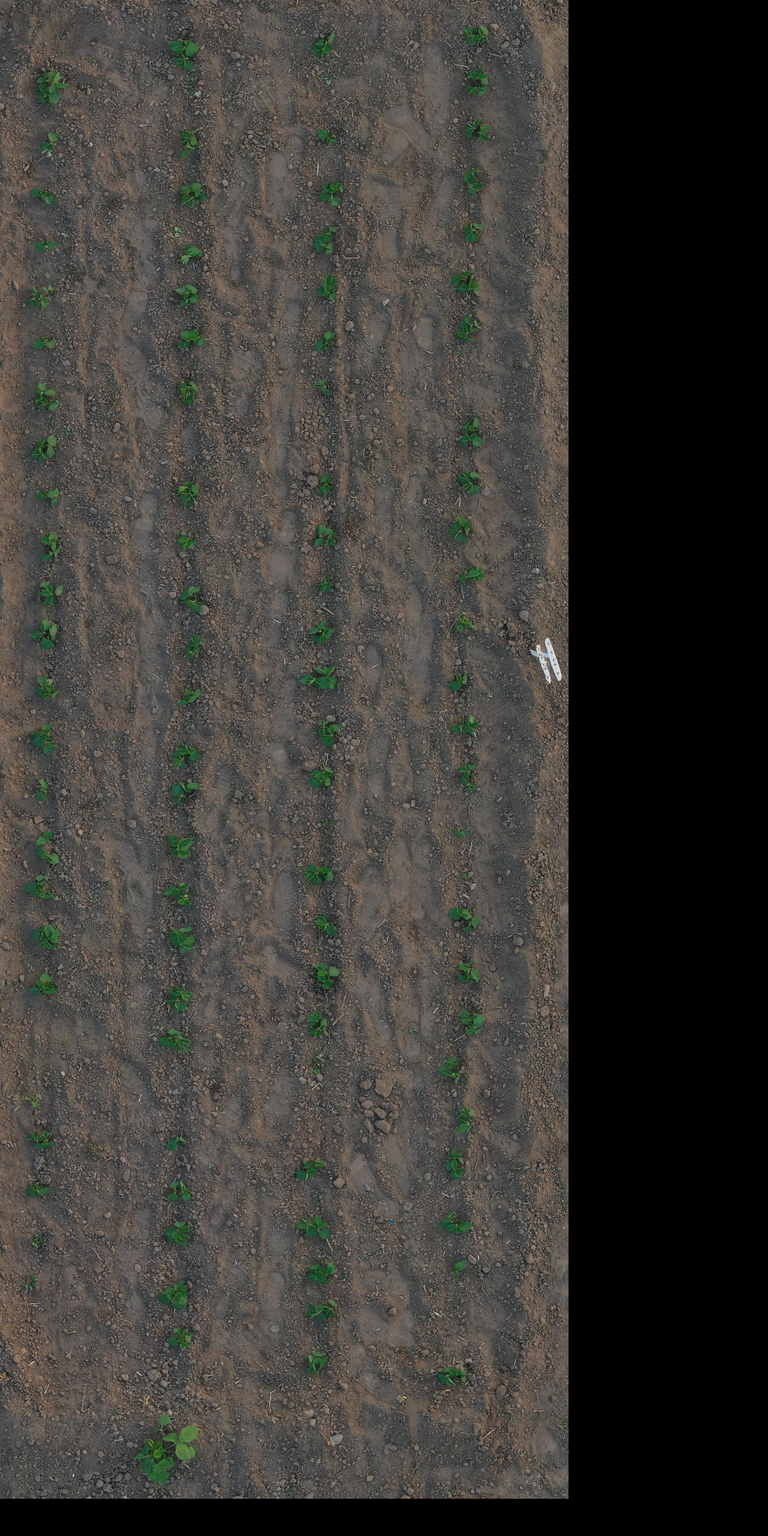s: (134, 1415, 198, 1463), (140, 1456, 174, 1486), (36, 70, 70, 94), (170, 41, 196, 71), (304, 1215, 331, 1240), (165, 986, 187, 1013), (28, 285, 53, 308), (180, 242, 204, 265), (40, 585, 64, 608), (157, 1291, 186, 1310), (36, 84, 61, 106), (175, 741, 202, 761), (168, 934, 195, 954), (315, 666, 338, 689), (316, 914, 338, 938), (28, 978, 57, 996), (160, 1280, 189, 1298), (40, 924, 60, 950), (319, 724, 340, 748), (458, 960, 480, 982), (178, 484, 199, 507), (314, 30, 334, 54), (32, 734, 56, 754), (300, 674, 330, 690), (448, 520, 468, 544), (162, 882, 190, 899), (35, 846, 60, 865), (165, 1221, 190, 1240), (40, 624, 58, 650), (445, 1159, 467, 1180), (165, 1035, 192, 1052), (158, 1028, 182, 1047), (463, 222, 484, 243), (315, 332, 336, 353), (317, 274, 337, 296), (31, 619, 51, 641), (466, 1013, 486, 1035), (466, 67, 490, 85), (456, 278, 480, 296), (459, 430, 484, 447), (306, 1302, 327, 1322), (25, 874, 47, 893), (168, 40, 200, 53), (318, 1262, 336, 1285), (30, 188, 54, 205), (180, 135, 197, 159), (26, 1182, 51, 1198), (26, 1130, 46, 1150), (465, 118, 484, 139), (35, 675, 54, 696), (31, 723, 52, 742), (308, 1017, 327, 1038), (461, 166, 483, 184), (458, 476, 480, 494), (312, 627, 335, 644), (446, 1220, 472, 1235), (174, 284, 198, 300), (464, 315, 484, 334), (166, 1132, 186, 1151), (456, 1115, 475, 1135), (317, 226, 338, 244), (304, 863, 322, 884), (439, 1211, 460, 1229), (168, 842, 190, 859), (180, 182, 203, 198), (456, 319, 472, 342), (457, 568, 480, 584), (167, 834, 193, 848), (182, 594, 201, 613), (40, 132, 58, 152), (41, 532, 59, 552), (189, 326, 206, 347), (178, 378, 199, 395), (312, 766, 335, 781), (438, 1069, 461, 1084), (181, 128, 199, 147), (472, 123, 490, 142), (456, 516, 473, 536), (32, 336, 56, 350), (41, 546, 62, 562), (169, 925, 193, 939), (35, 398, 60, 411), (35, 777, 48, 802), (448, 907, 473, 920), (314, 964, 341, 976), (316, 971, 334, 989), (460, 1008, 478, 1026), (318, 129, 337, 146), (451, 270, 470, 287), (449, 674, 468, 691), (177, 294, 200, 308), (322, 1298, 338, 1318), (312, 1352, 328, 1372), (179, 193, 200, 208), (456, 968, 477, 983), (44, 435, 57, 459), (302, 1158, 326, 1171), (32, 436, 46, 458), (177, 780, 199, 794), (168, 1334, 190, 1348), (174, 987, 192, 1004), (178, 330, 194, 349), (177, 534, 196, 550), (37, 381, 57, 396), (29, 888, 54, 900), (438, 1056, 458, 1071), (314, 524, 327, 547), (171, 784, 184, 807), (312, 240, 333, 254), (179, 586, 200, 600), (177, 1180, 191, 1201), (185, 686, 202, 703), (311, 44, 329, 60), (466, 182, 484, 198), (314, 378, 330, 396), (462, 416, 480, 432), (450, 721, 474, 733), (35, 830, 53, 846), (462, 916, 480, 932), (295, 1168, 317, 1181), (315, 866, 334, 881), (437, 1371, 456, 1386), (307, 1355, 322, 1374), (456, 1107, 476, 1121), (35, 240, 58, 252), (165, 1234, 188, 1246), (443, 1366, 466, 1378), (34, 490, 59, 501), (461, 775, 478, 791), (474, 26, 489, 44), (179, 390, 197, 405), (40, 973, 55, 991), (458, 764, 476, 779), (453, 1260, 468, 1278), (446, 1149, 464, 1164), (307, 1264, 322, 1282), (307, 1010, 322, 1028), (319, 474, 331, 496), (459, 470, 481, 482), (38, 688, 60, 700), (464, 26, 477, 46), (167, 1181, 180, 1201), (172, 752, 188, 768), (296, 1216, 312, 1232), (31, 924, 46, 941), (187, 636, 205, 650), (308, 620, 326, 634), (41, 1130, 55, 1148), (24, 1094, 42, 1108), (466, 85, 488, 96), (320, 194, 340, 206), (471, 566, 486, 582), (316, 719, 330, 736), (38, 580, 51, 598), (310, 777, 331, 788), (324, 527, 336, 546), (319, 576, 332, 593), (172, 1327, 194, 1337), (326, 182, 344, 194), (33, 450, 51, 462), (456, 614, 468, 631), (50, 487, 60, 507), (466, 715, 479, 730), (326, 284, 337, 301), (177, 894, 191, 907), (318, 181, 328, 199), (186, 646, 201, 658), (176, 481, 192, 492), (41, 145, 54, 158), (464, 617, 477, 629), (192, 192, 207, 201), (35, 388, 44, 403), (176, 697, 191, 706), (29, 1275, 38, 1286), (194, 140, 202, 152), (456, 830, 468, 838), (24, 1282, 35, 1289), (34, 1234, 43, 1242), (31, 1242, 38, 1249), (453, 828, 460, 834), (33, 1238, 40, 1244), (462, 874, 471, 878), (322, 821, 329, 826)
